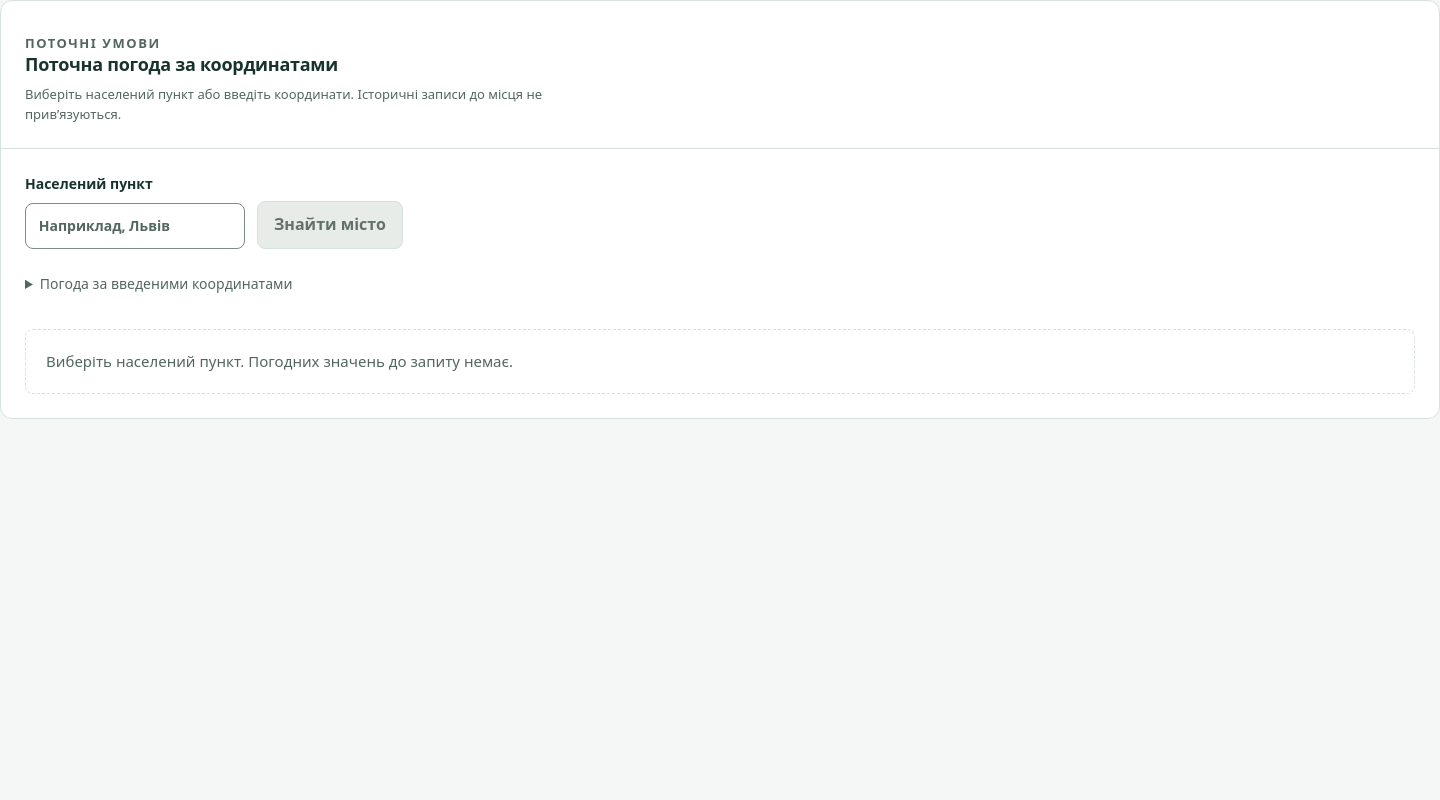
Test: Weather and map states › accepts explicitly entered coordinates without inventing a city or reading MySQL
Click the heading "Погода за введеними координатами" at (166, 283), box [40, 274, 292, 293]
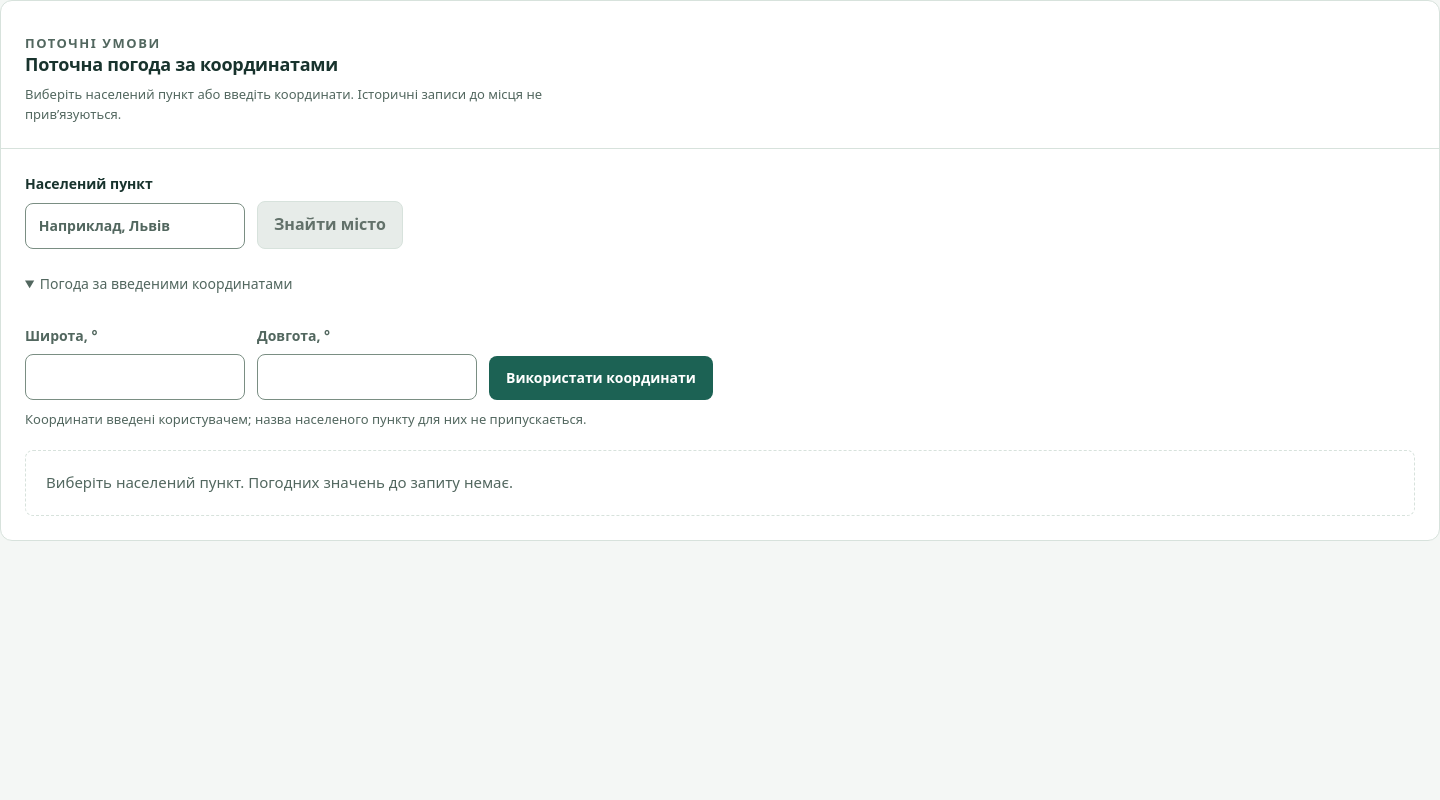
Type "49" into the number field labelled "Широта, °" at (135, 377), box [25, 354, 245, 400]
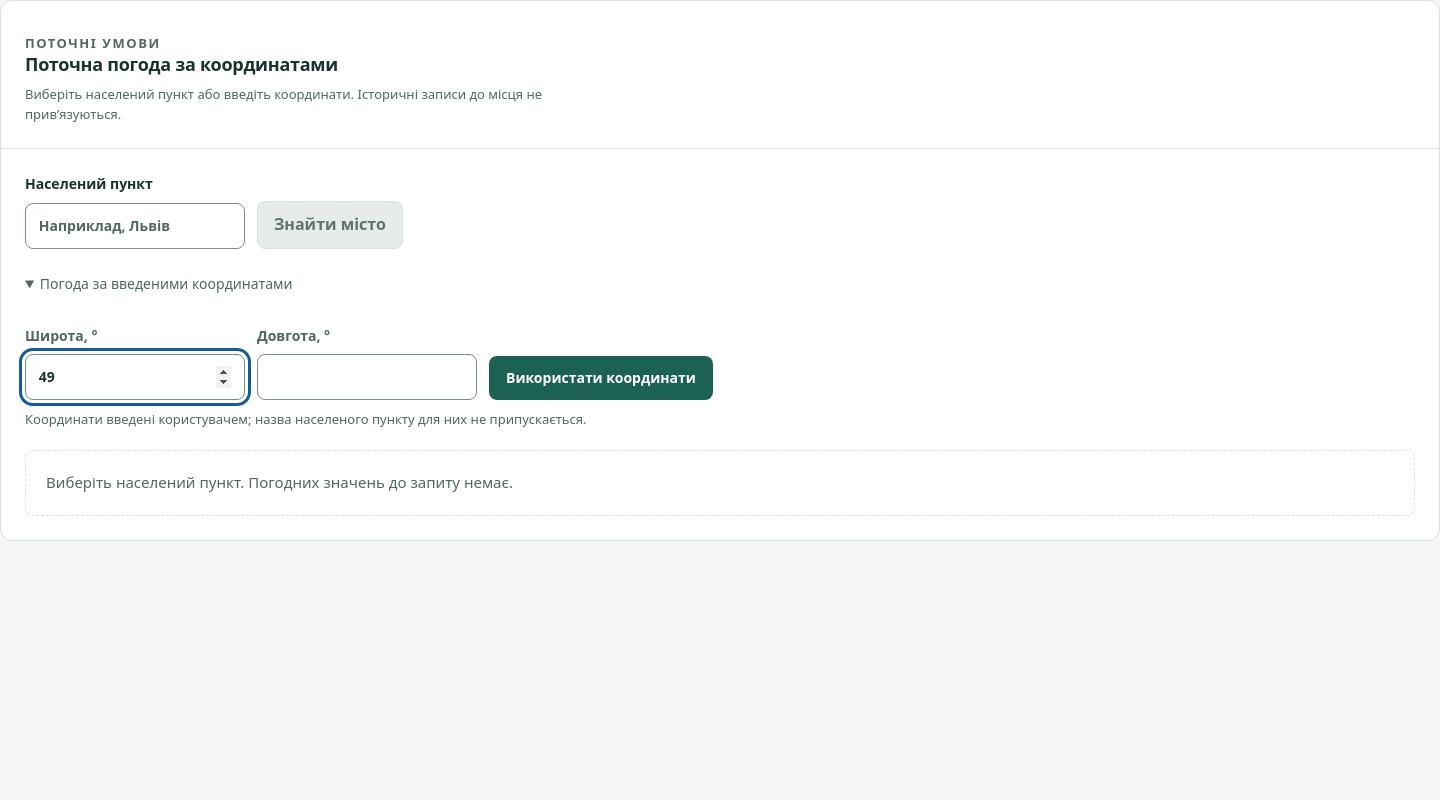
Type "24" into the number field labelled "Довгота, °" at (367, 377), box [257, 354, 477, 400]
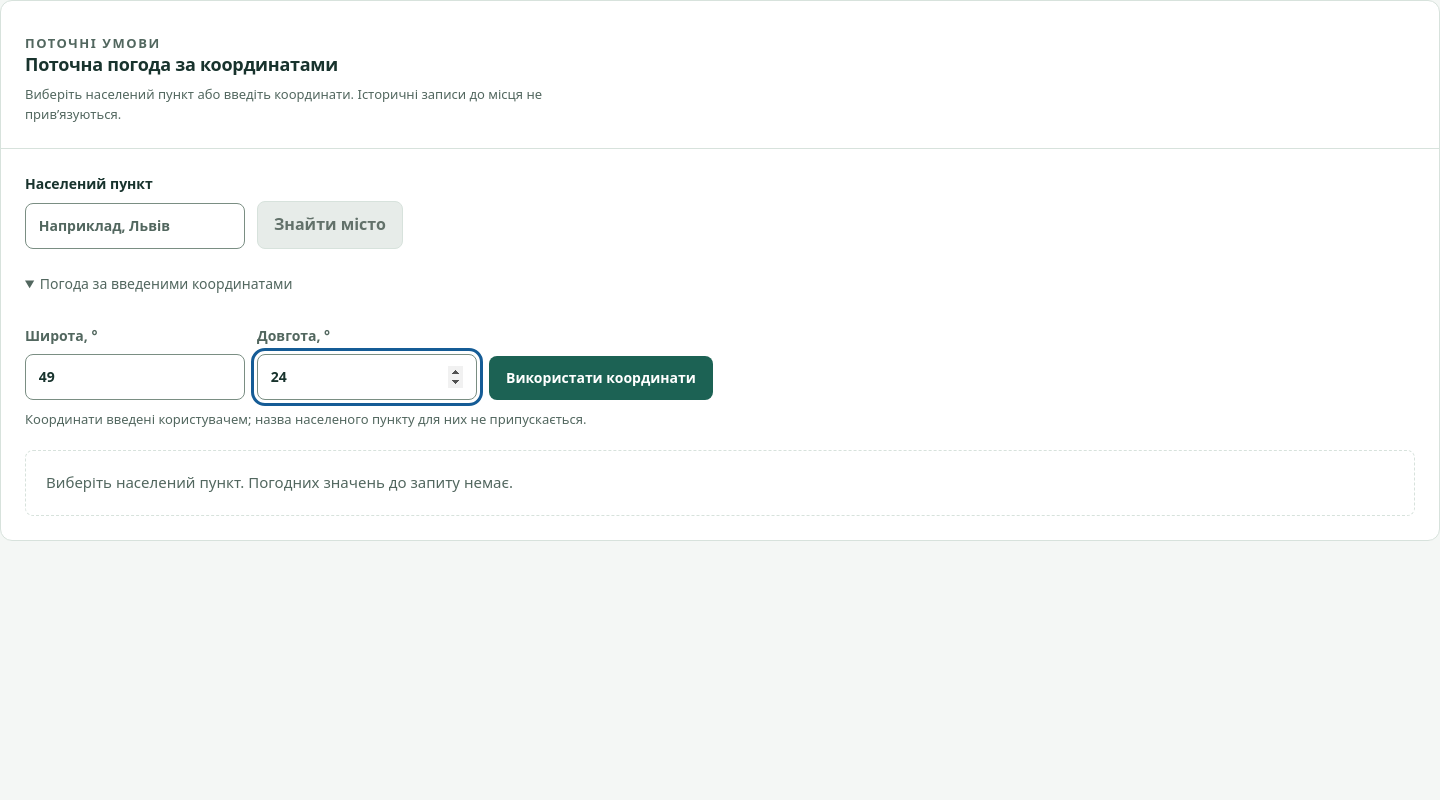
Click the button "Використати координати" at (601, 378), box [489, 356, 713, 400]
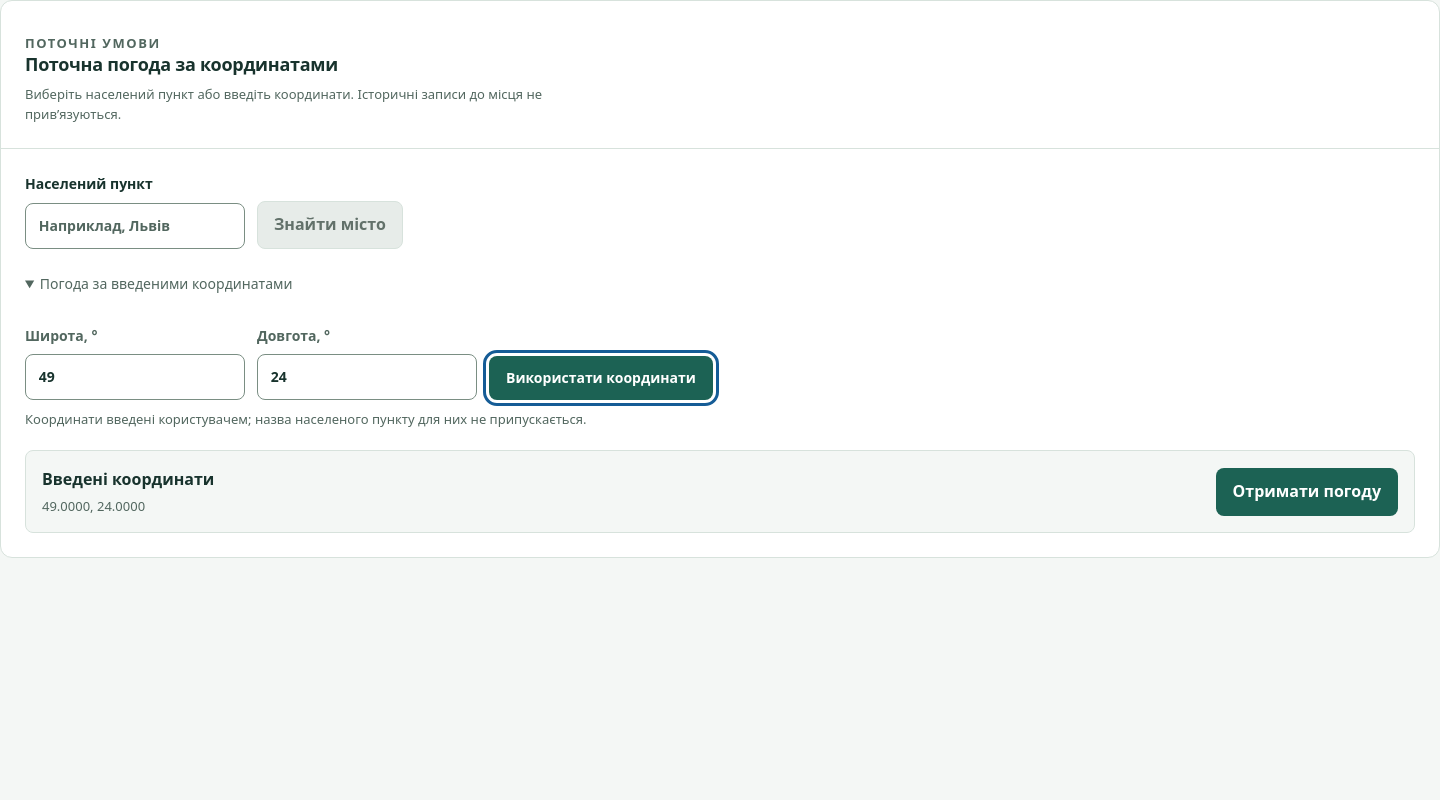
Check: the text "Введені координати" is shown, box [42, 468, 214, 490]
Click the button "Отримати погоду" at (1307, 492), box [1216, 468, 1398, 516]
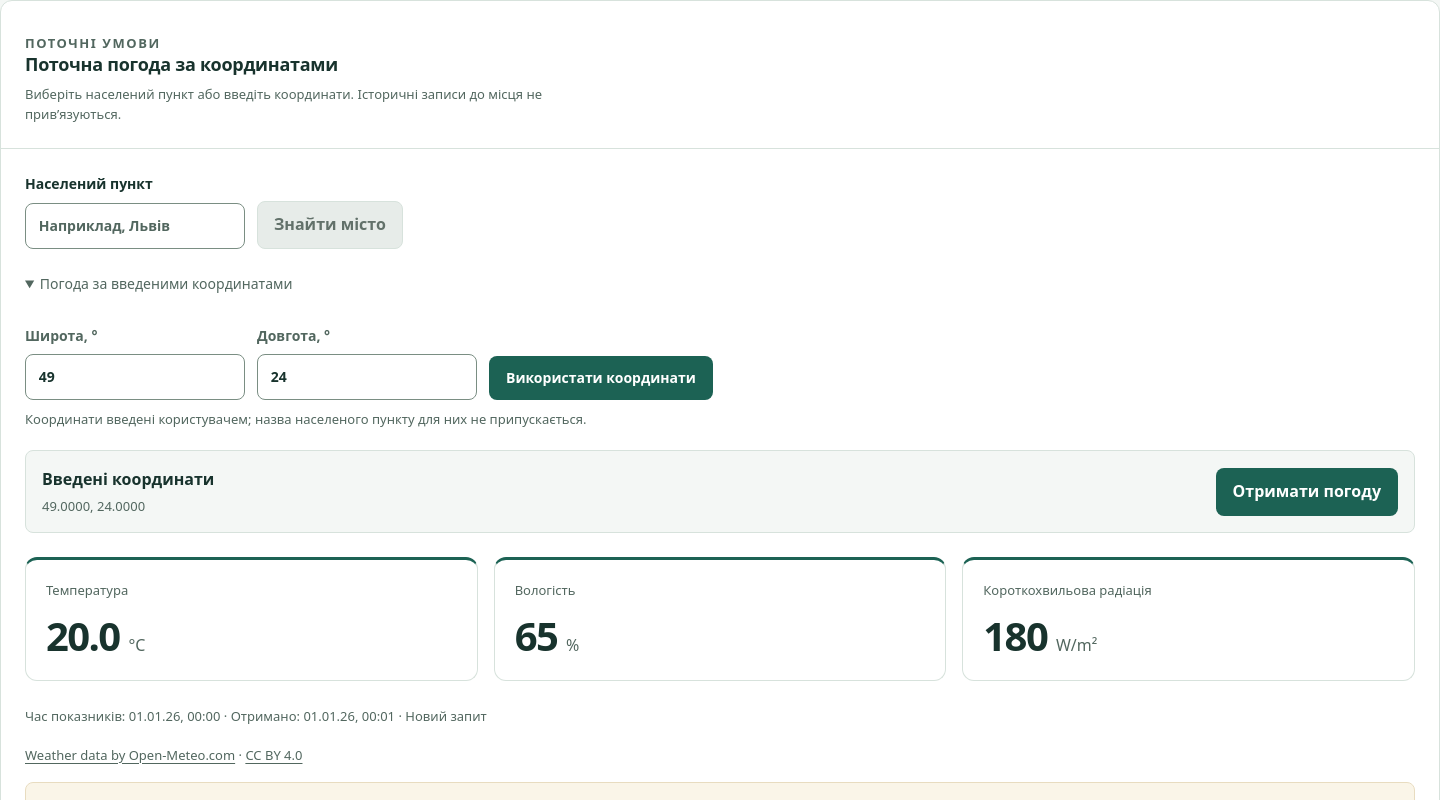
Check: the link "Weather data by Open-Meteo.com" is shown, box [25, 746, 235, 764]
